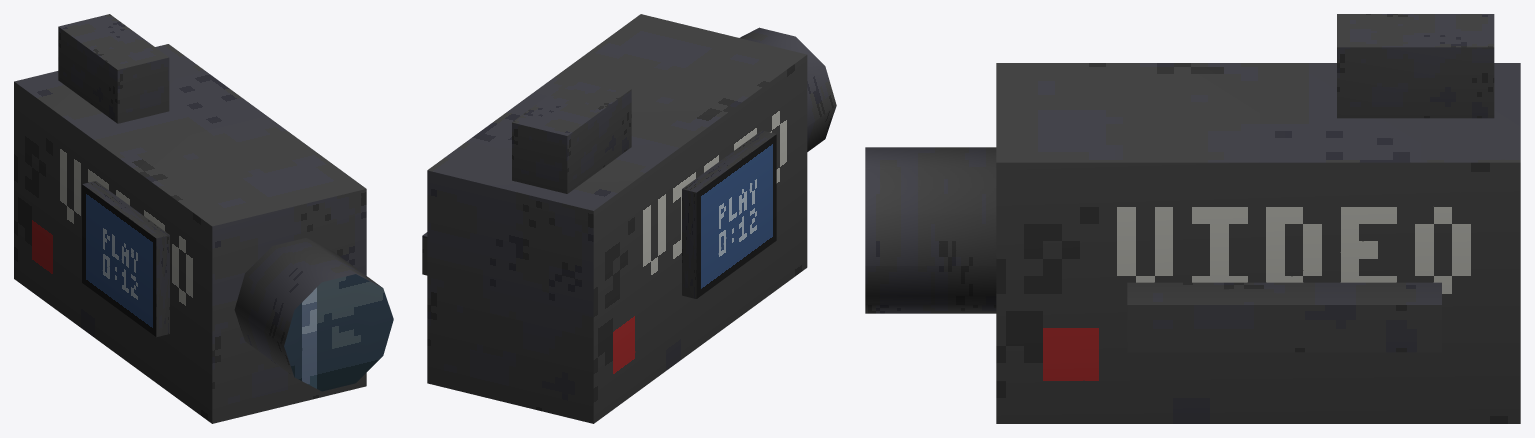
Rendered from camcorder.glb.
3 views of the same model, side by side, from view 1: azimuth 30°, elevation 25°; view 2: azimuth 150°, elevation 25°; view 3: azimuth 270°, elevation 25° (orthographic). The views are drawn at different scales.
Parts seen in each view (by area): view 1: camcorder, camcorder_screen; view 2: camcorder, camcorder_screen; view 3: camcorder.
Boxes of the visible parts, x1,y1,x2,y2 form: camcorder: (14,14,393,423); camcorder_screen: (82,181,169,337); camcorder: (422,14,836,423); camcorder_screen: (682,130,776,298); camcorder: (865,14,1520,423).
Size of the model in its own units: 0.118 by 0.14 by 0.25.
2 materials, 2 textured.
